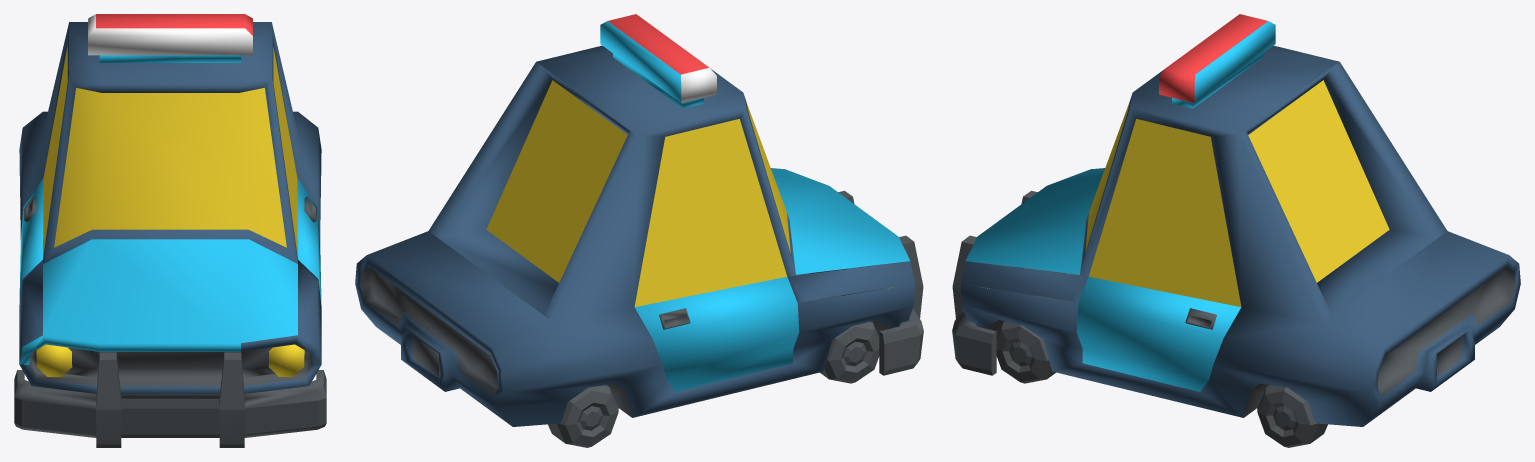
File: Toy213.fbx
3 renders of one model, left to right at view 1: azimuth 30°, elevation 25°; view 2: azimuth 150°, elevation 25°; view 3: azimuth 270°, elevation 25°, orthographic.
Parts seen in each view (by area): view 1: Toy213; view 2: Toy213; view 3: Toy213.
Part boxes in pixels (x1,y1,x2,y2): Toy213: [14, 14, 326, 447]; Toy213: [355, 14, 923, 447]; Toy213: [952, 14, 1520, 447].
Size of the model in its own units: 0.1616 by 0.1168 by 0.1832.
